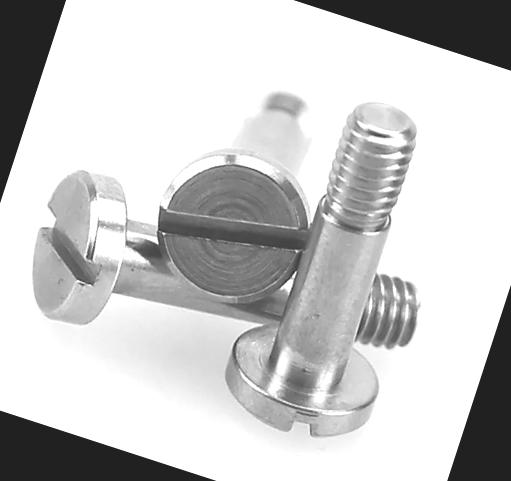screw: (134, 128, 330, 322)
